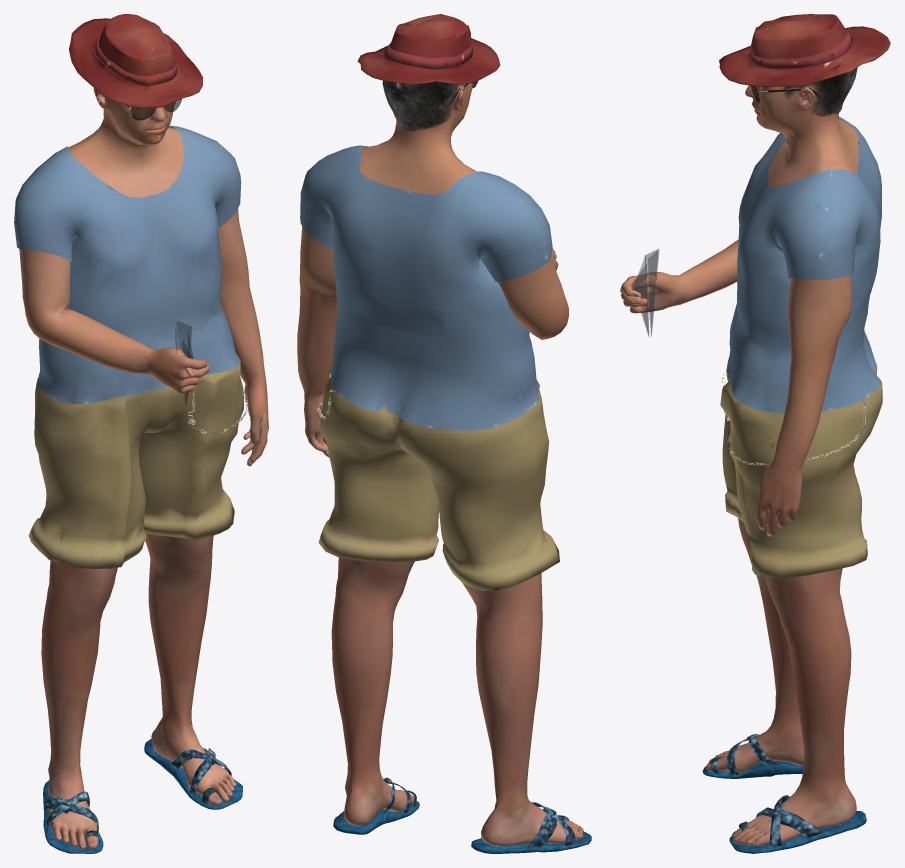
3 views of the same model, side by side, from view 1: azimuth 30°, elevation 25°; view 2: azimuth 150°, elevation 25°; view 3: azimuth 270°, elevation 25° (orthographic). The views are drawn at different scales.
Visible parts, largest first — view 1: p02534; view 2: p02534; view 3: p02534.
Part boxes in pixels (bbox=[...]): p02534: bbox=[14, 14, 268, 853]; p02534: bbox=[297, 14, 591, 853]; p02534: bbox=[620, 14, 890, 853].
Bounding box in the file's own units: 0.5611 × 1.71 × 0.5268.
1 material, 1 textured.
